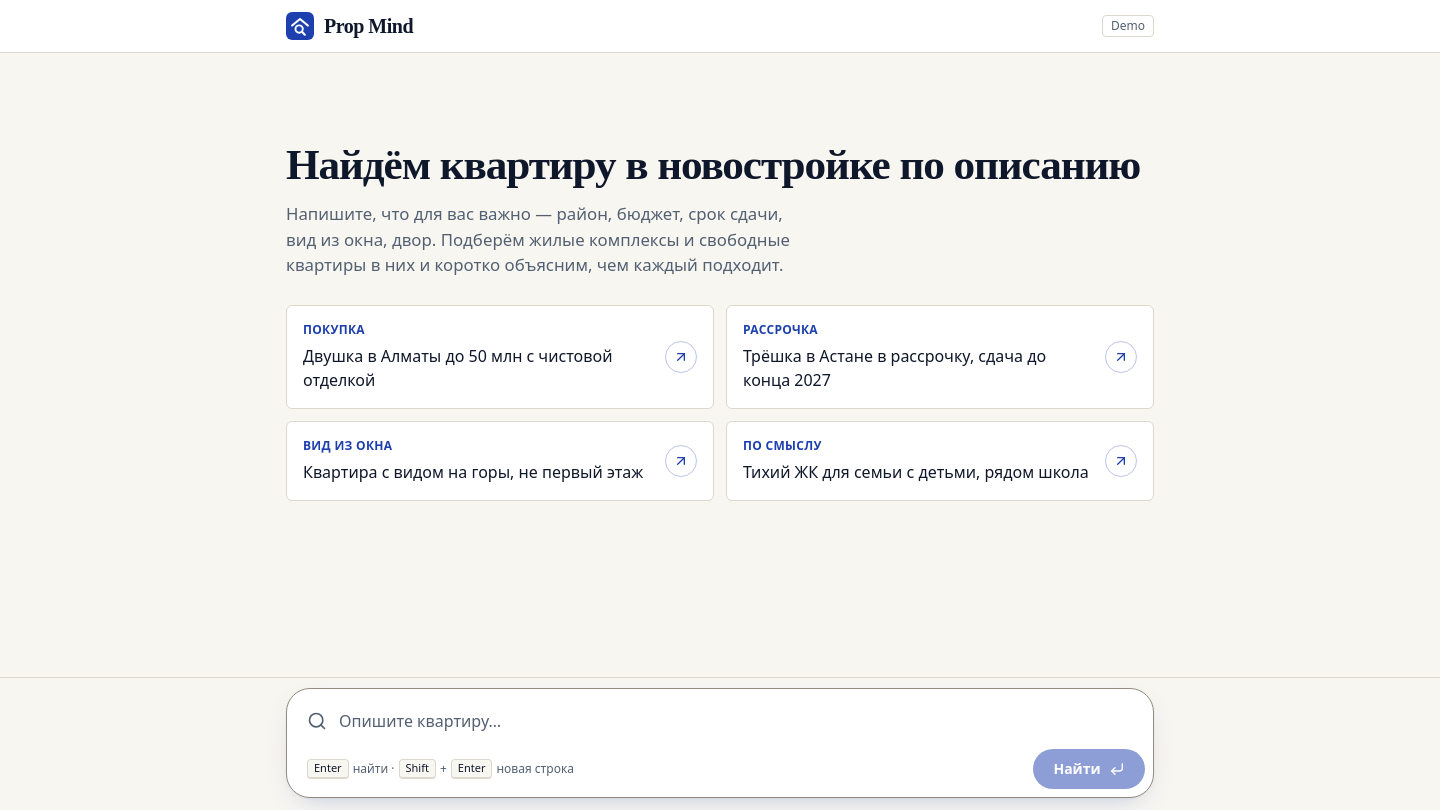
Test case: ?stream=0 uses the JSON response
Type "однушка в Астане" into the text box named "Запрос" at (736, 721), box [339,701,1133,741]
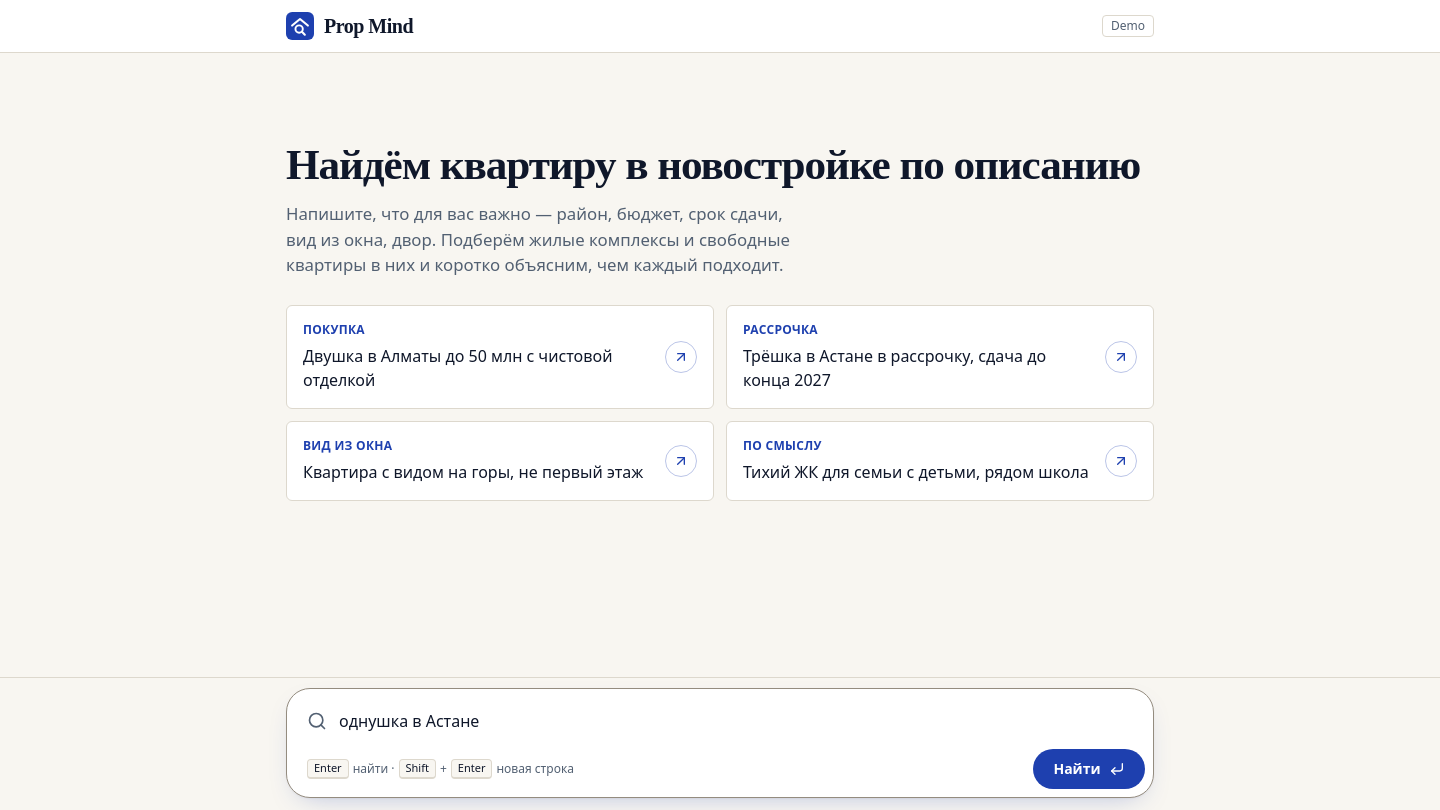
Press Enter in the text box named "Запрос", box [339,701,1133,741]
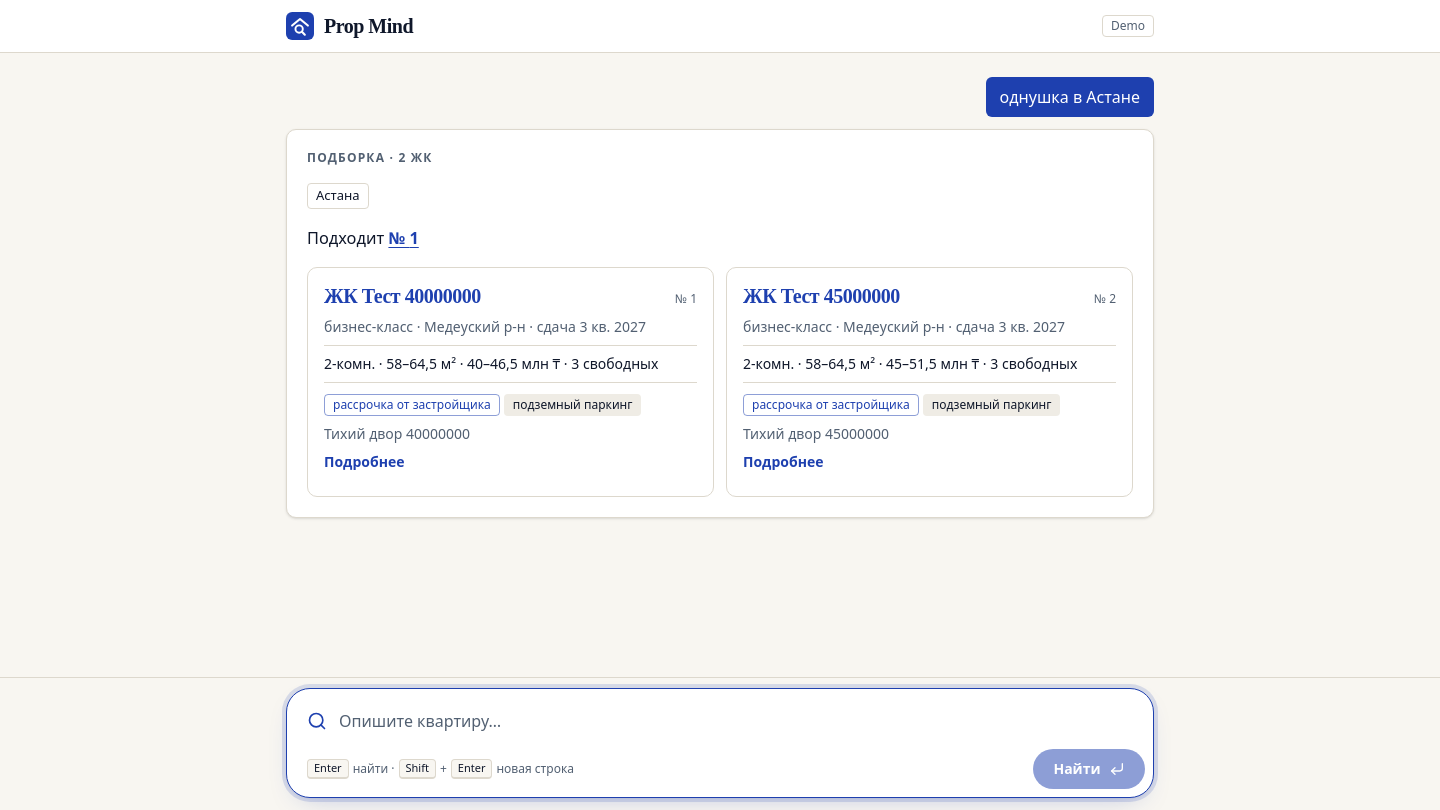
expect the text "Астана" is shown: met, box [307,183,369,208]
expect the link reads "№ 1": met, box [388,226,419,248]
